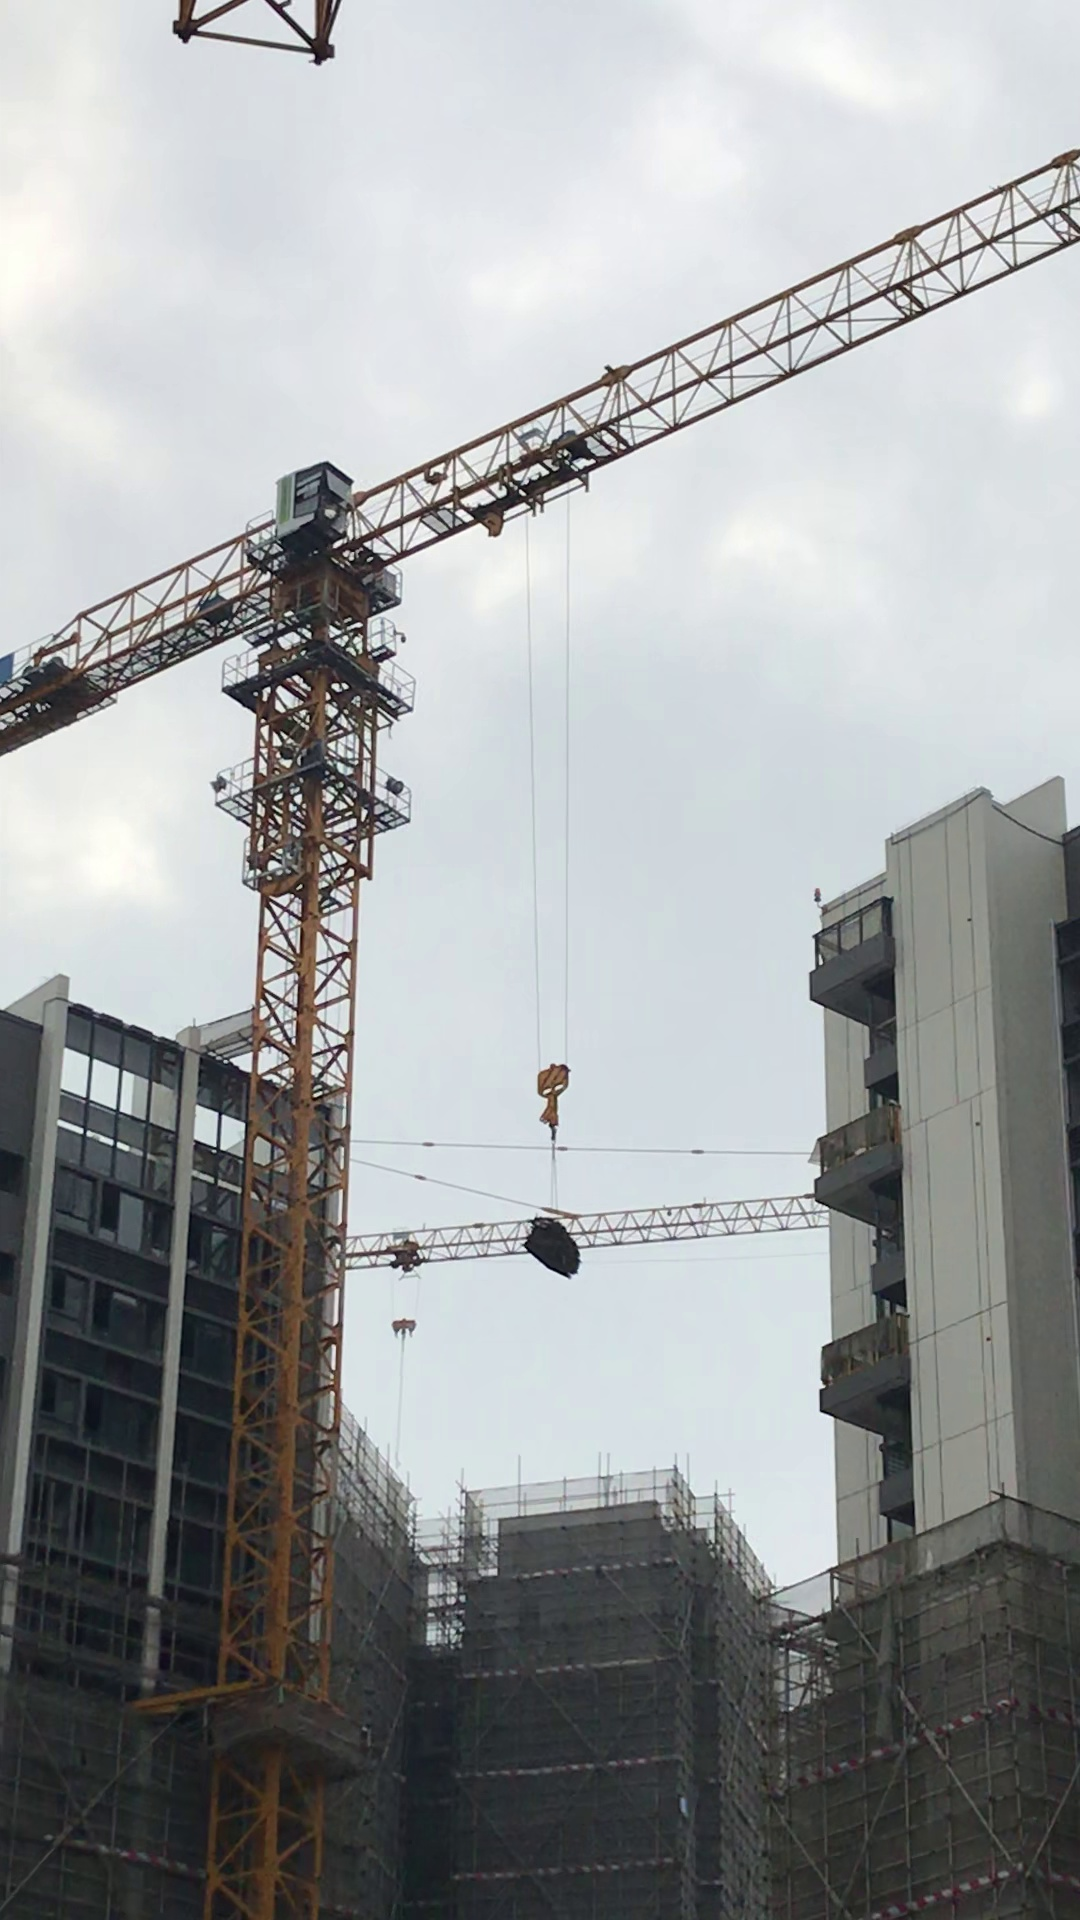hook: (533, 1058, 571, 1155), (389, 1308, 422, 1344)
